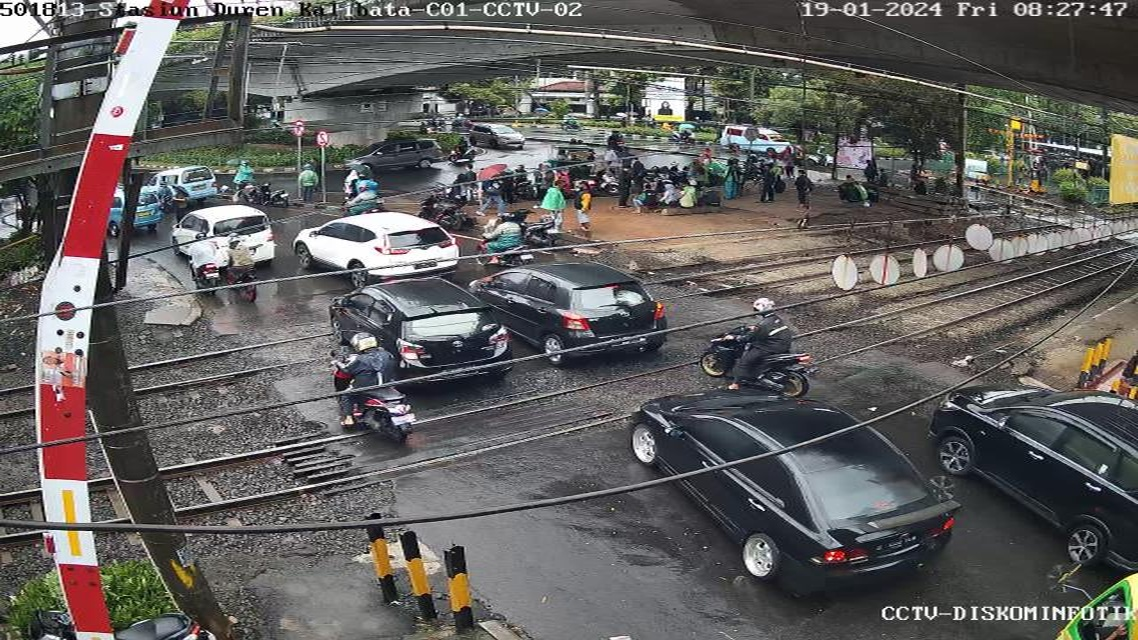Gerobak: (548, 143, 596, 174)
